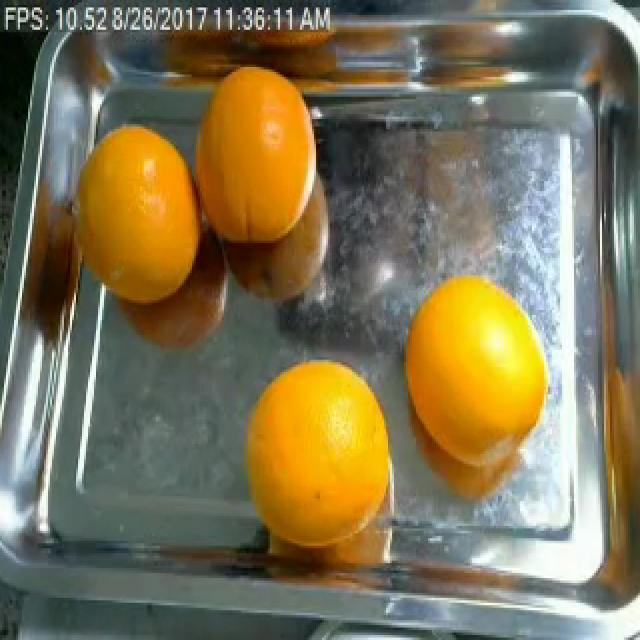Fruit: (386, 258, 558, 451), (228, 345, 394, 536)
